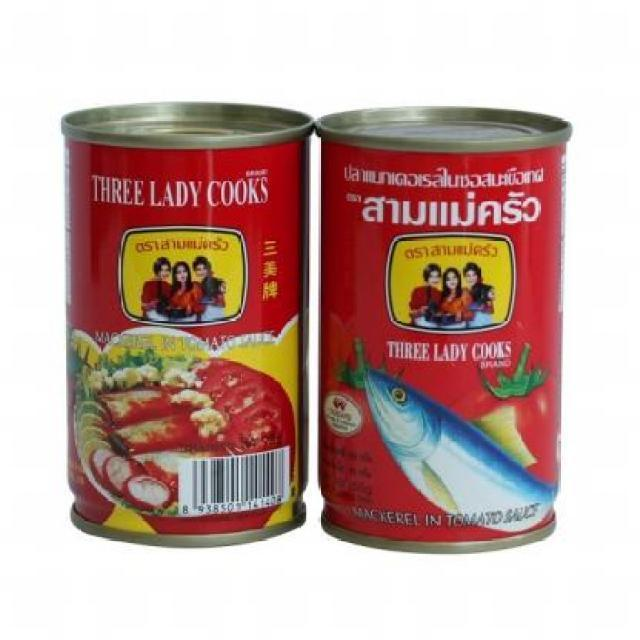metal-can: (314, 92, 580, 558), (58, 93, 314, 555)
